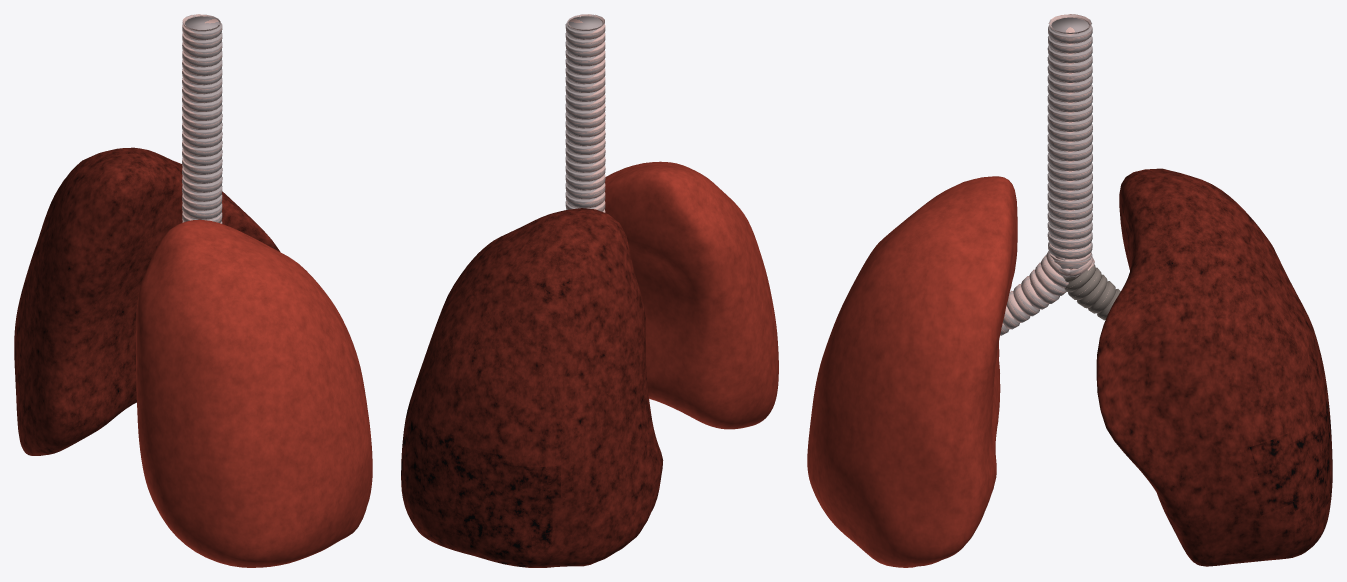
Rendered from lung1.fbx.
3 renders of one model, left to right at view 1: azimuth 30°, elevation 25°; view 2: azimuth 150°, elevation 25°; view 3: azimuth 270°, elevation 25°, orthographic. The views are drawn at different scales.
Parts seen in each view (by area): view 1: RightLung, LeftLung, Trachea; view 2: LeftLung, RightLung, Trachea; view 3: LeftLung, RightLung, Trachea, RightBronchus, LeftBronchus.
Boxes of the visible parts, left/top/right/bottom form: RightLung: left=136, top=219, right=372, bottom=567; LeftLung: left=14, top=147, right=280, bottom=455; Trachea: left=182, top=14, right=222, bottom=223; LeftLung: left=401, top=208, right=663, bottom=567; RightLung: left=605, top=161, right=778, bottom=429; Trachea: left=565, top=14, right=605, bottom=212; LeftLung: left=1096, top=168, right=1332, bottom=566; RightLung: left=807, top=176, right=1017, bottom=567; Trachea: left=1047, top=14, right=1094, bottom=277; RightBronchus: left=1000, top=251, right=1068, bottom=335; LeftBronchus: left=1063, top=264, right=1120, bottom=320.
Bounding box in the file's own units: 4.27 × 4.58 × 2.35.
Materials: 7 (6 with a texture image).
